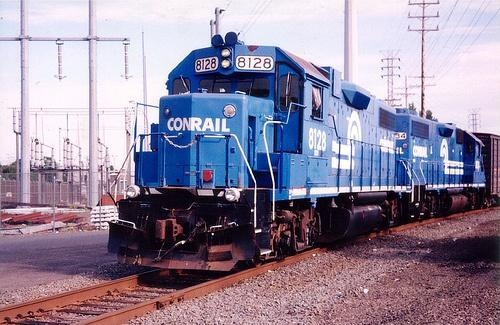train: (107, 32, 500, 280)
